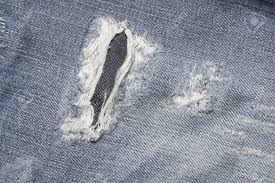Hole: (45, 7, 152, 152), (168, 42, 241, 131), (222, 136, 275, 169)
